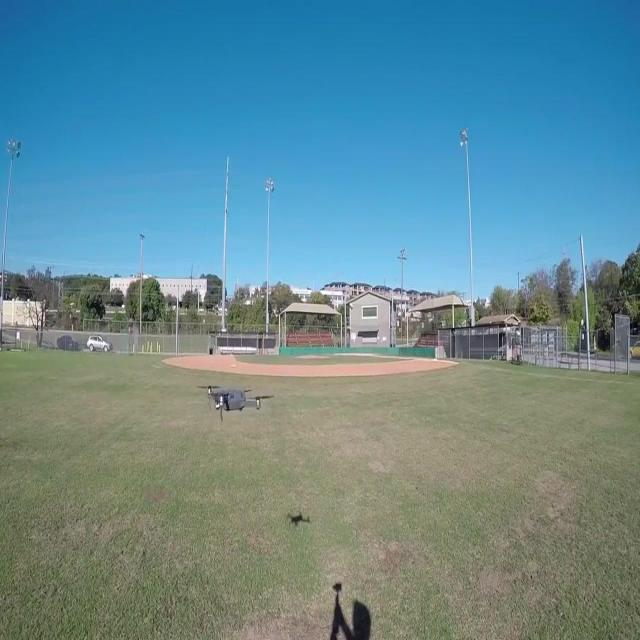UAV: (197, 384, 275, 421)
